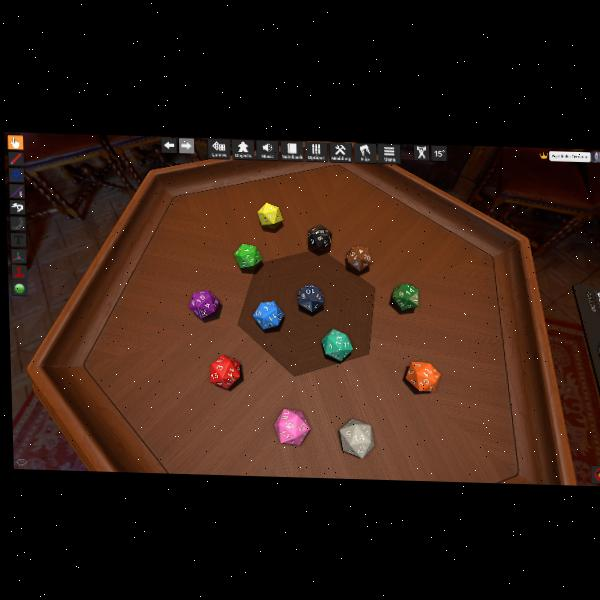d20: (338, 417, 374, 457), (274, 409, 310, 446), (207, 352, 238, 386), (321, 328, 353, 360), (188, 289, 219, 321), (405, 360, 437, 391), (252, 300, 283, 331), (233, 243, 261, 270), (297, 285, 324, 313), (256, 201, 282, 228), (344, 246, 370, 273), (392, 282, 417, 310), (307, 224, 332, 251)
